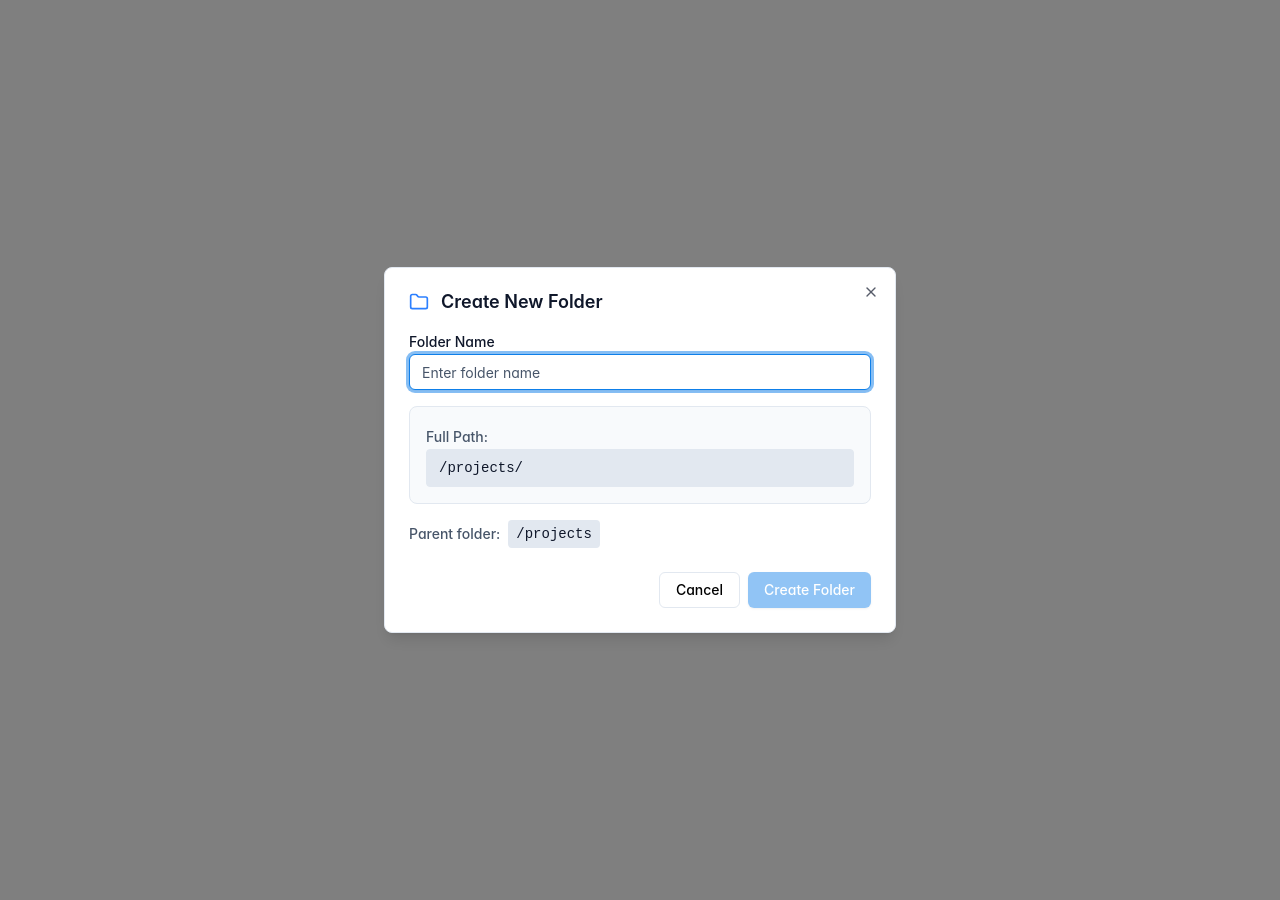
Test: CreateFolderModal › shows the parent folder and builds the path under it
Expected: the text "Parent folder:" is shown, [409,524,500,544]
Type "Sub" into the field with test id "folder-name". click: [640, 372]
box: [409,354,871,390]
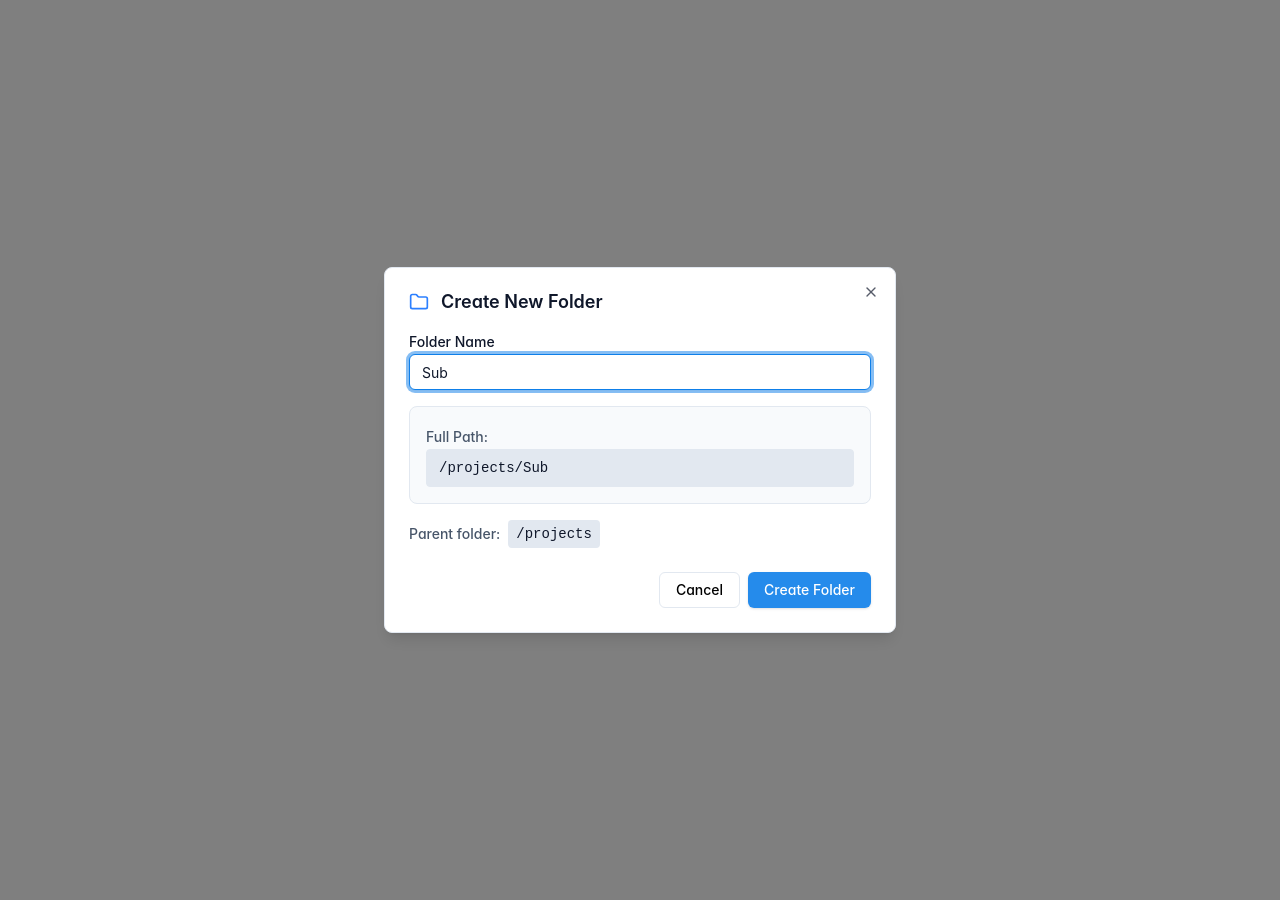
Now the text "/projects/Sub" is shown, box [426,449,854,487]
